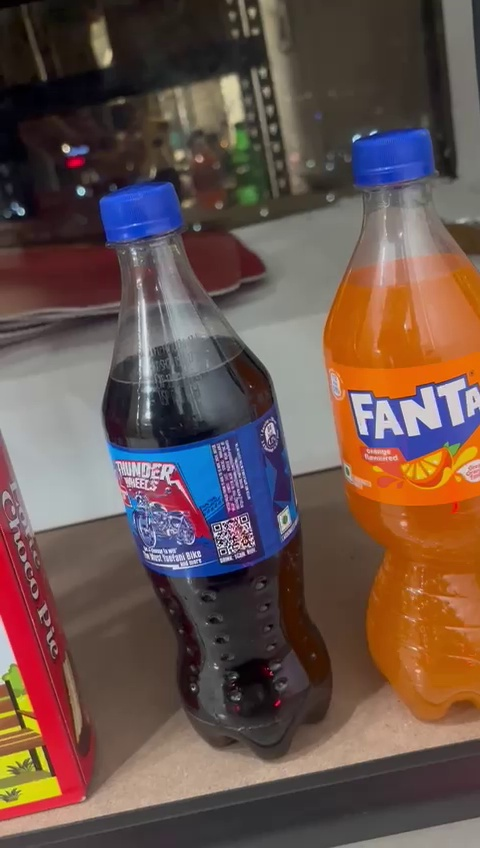Thums-up: (85, 184, 340, 761)
